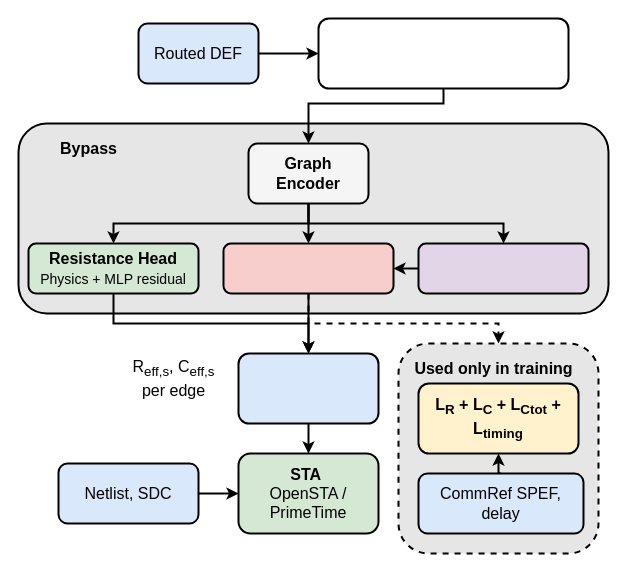
This 626x571 diagram has some shape labels left out. The centre of each missing label's shape, as x and y in pixels:
Capacitance Head MLP, rescaled to C tot: [308,268]
Graph Construction node / edge features: [443,53]
Net C tot Mixture of Experts: [503,268]
Reconstruct SPEF: [308,388]
